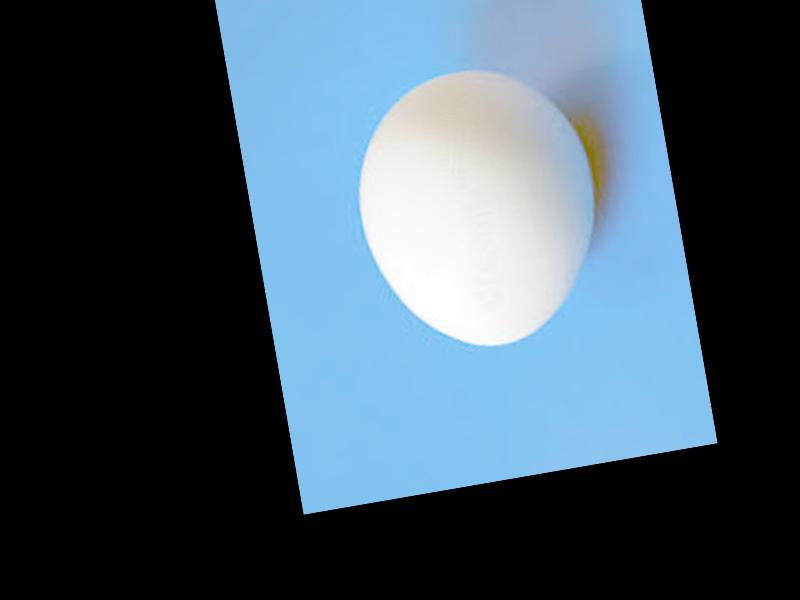Eggs: (340, 50, 618, 367)
